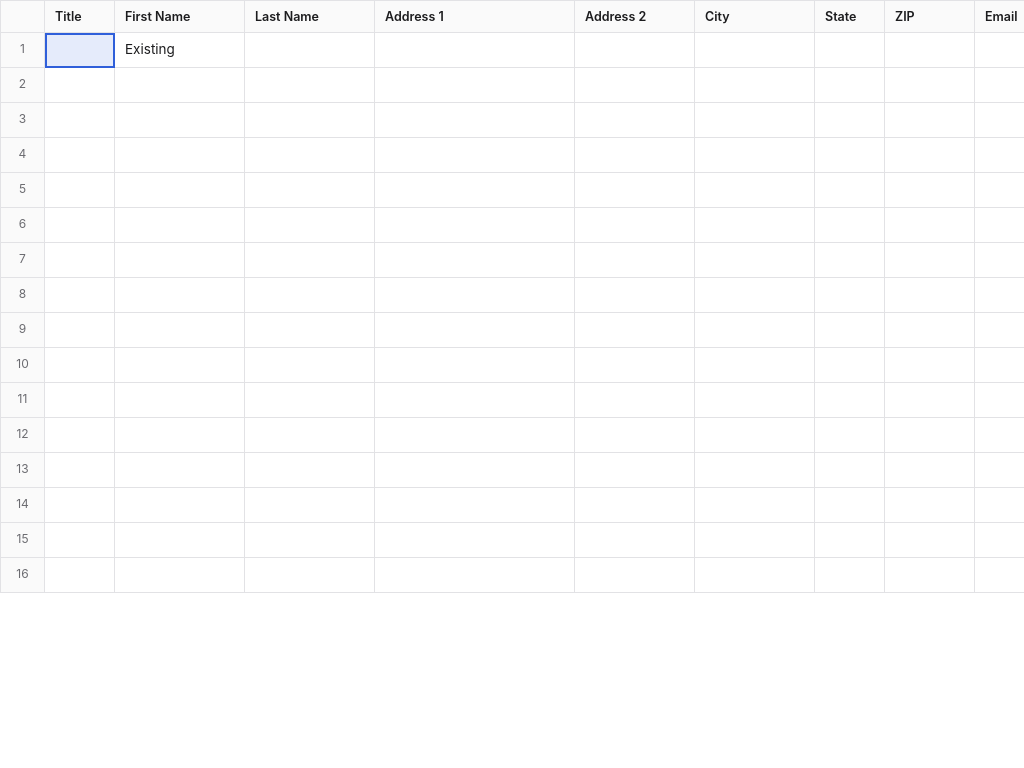
Test: selection vs. editing › typing into a selected populated cell starts a fresh value instead of appending
The image size is (1024, 768).
Press the mouse on the cell "Existing" at x=180, y=50, box left=114, top=32, right=244, bottom=68
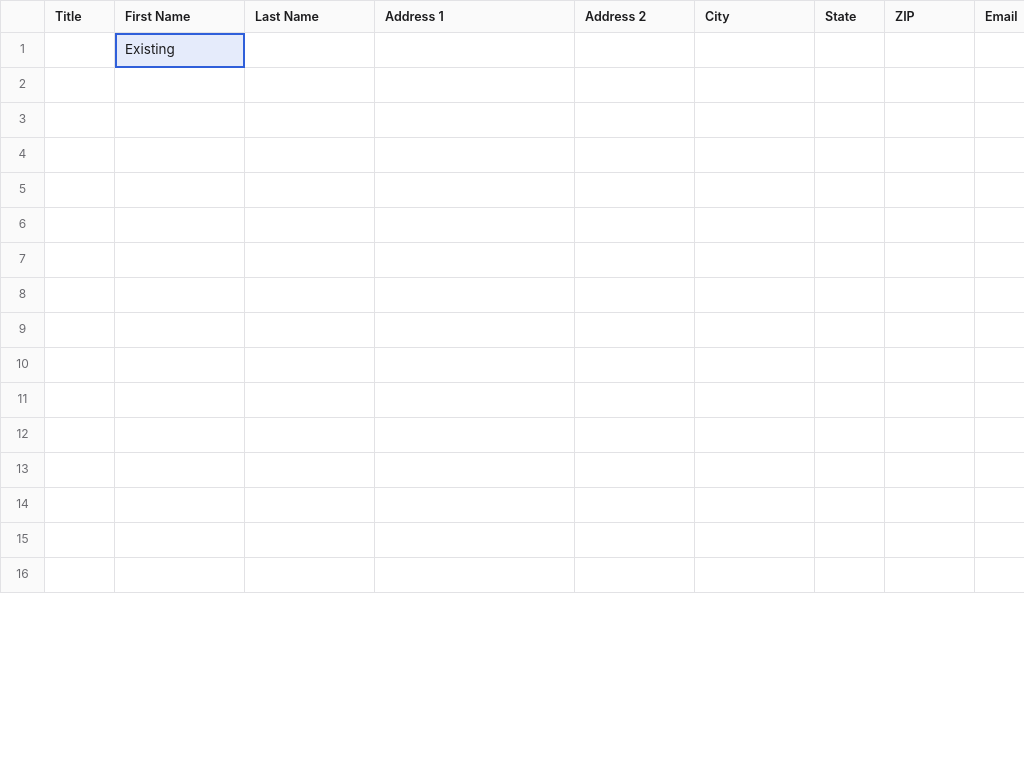
Check: the text with class "cell-display" reads "Existing", box left=125, top=41, right=175, bottom=57
Press X in the element with test id "grid-wrapper"
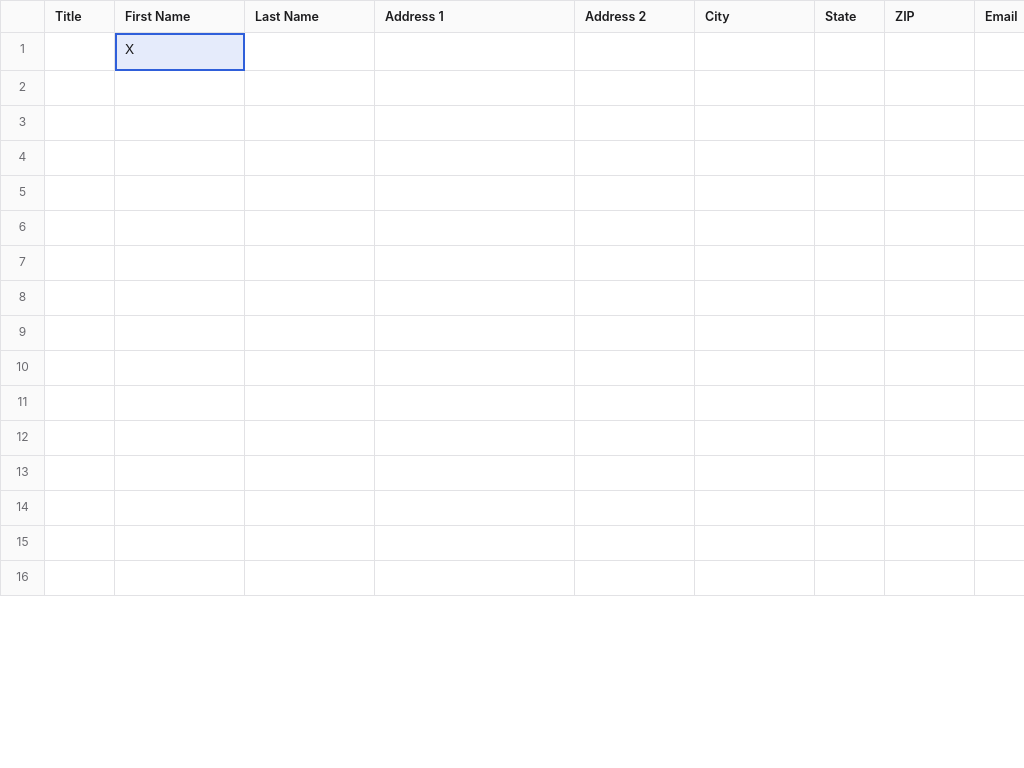
Check: the text box with class "cell-editor" holds "X", box left=115, top=33, right=244, bottom=67
